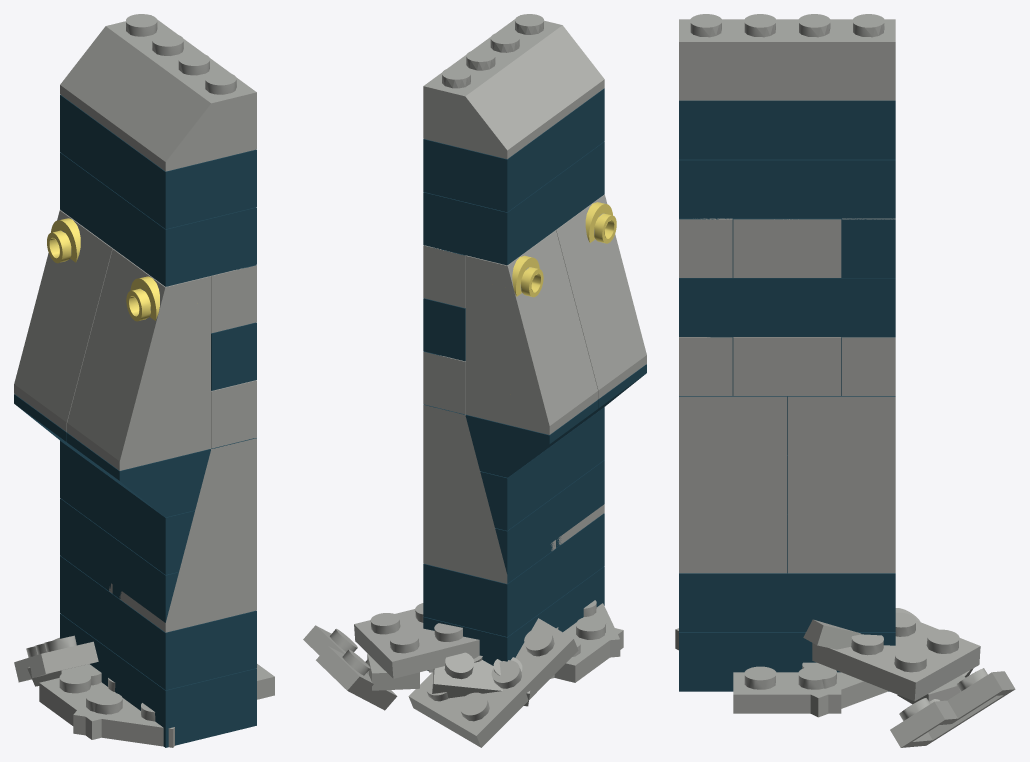
File: laneparts.fbx
3 renders of one model, left to right at view 1: azimuth 30°, elevation 25°; view 2: azimuth 150°, elevation 25°; view 3: azimuth 270°, elevation 25°, orthographic. The views are drawn at different scales.
Visible parts, largest first — view 1: wall_sloped, wall_lights, deco_floor_01, deco_floor_02, deco_floor_03; view 2: wall_sloped, wall_lights, deco_floor_03, deco_floor_04, deco_floor_02, deco_floor_01; view 3: wall_lights, wall_sloped, deco_floor_04, deco_floor_03, deco_floor_01, deco_floor_02.
Boxes of the visible parts, box(x1,y1,x2,y2) form: wall_sloped: box(14, 14, 256, 747); wall_lights: box(47, 14, 256, 747); deco_floor_01: box(39, 664, 274, 739); deco_floor_02: box(27, 637, 174, 747); deco_floor_03: box(14, 635, 133, 706); wall_sloped: box(423, 14, 646, 661); wall_lights: box(423, 14, 616, 670); deco_floor_03: box(303, 618, 578, 747); deco_floor_04: box(354, 603, 578, 690); deco_floor_02: box(428, 600, 620, 706); deco_floor_01: box(554, 619, 623, 682); wall_lights: box(679, 14, 895, 691); wall_sloped: box(679, 14, 895, 691); deco_floor_04: box(776, 612, 980, 704); deco_floor_03: box(890, 608, 1015, 747); deco_floor_01: box(733, 666, 841, 713); deco_floor_02: box(675, 619, 888, 717).
Bounding box in the file's own units: 442 × 1137 × 501.
